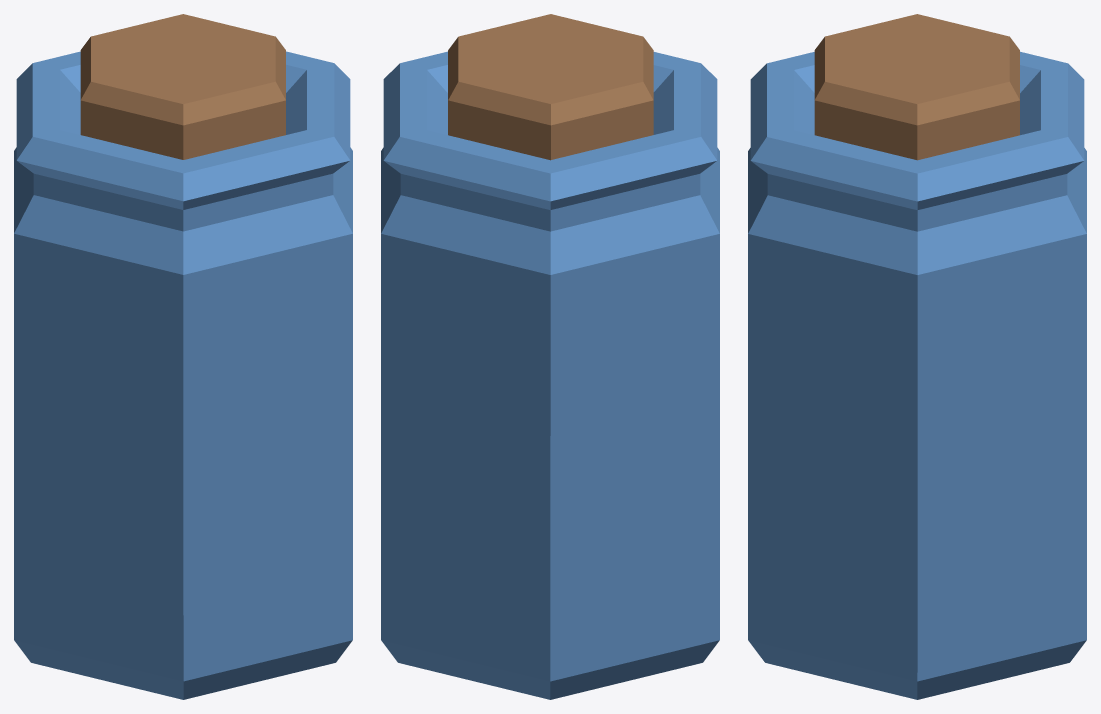
File: Blue_Potion_2.fbx
The picture shows the model from 3 angles, left to right: view 1: azimuth 30°, elevation 25°; view 2: azimuth 150°, elevation 25°; view 3: azimuth 270°, elevation 25°; orthographic projection.
Visible parts, largest first — view 1: Blue_Potion_2; view 2: Blue_Potion_2; view 3: Blue_Potion_2.
Part boxes in pixels (x1,y1,x2,y2): Blue_Potion_2: (14,14,352,699); Blue_Potion_2: (381,14,719,699); Blue_Potion_2: (748,14,1086,699).
Bounding box in the file's own units: 23.02 × 36.77 × 19.94.
